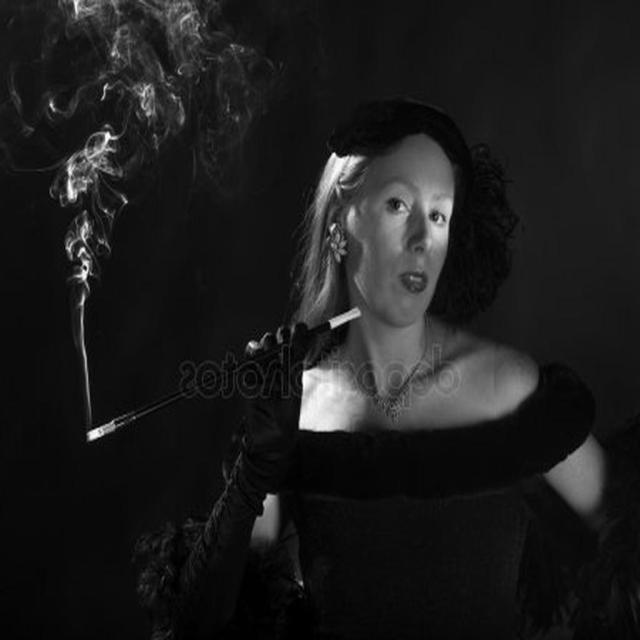smoking: (57, 110, 465, 502)
